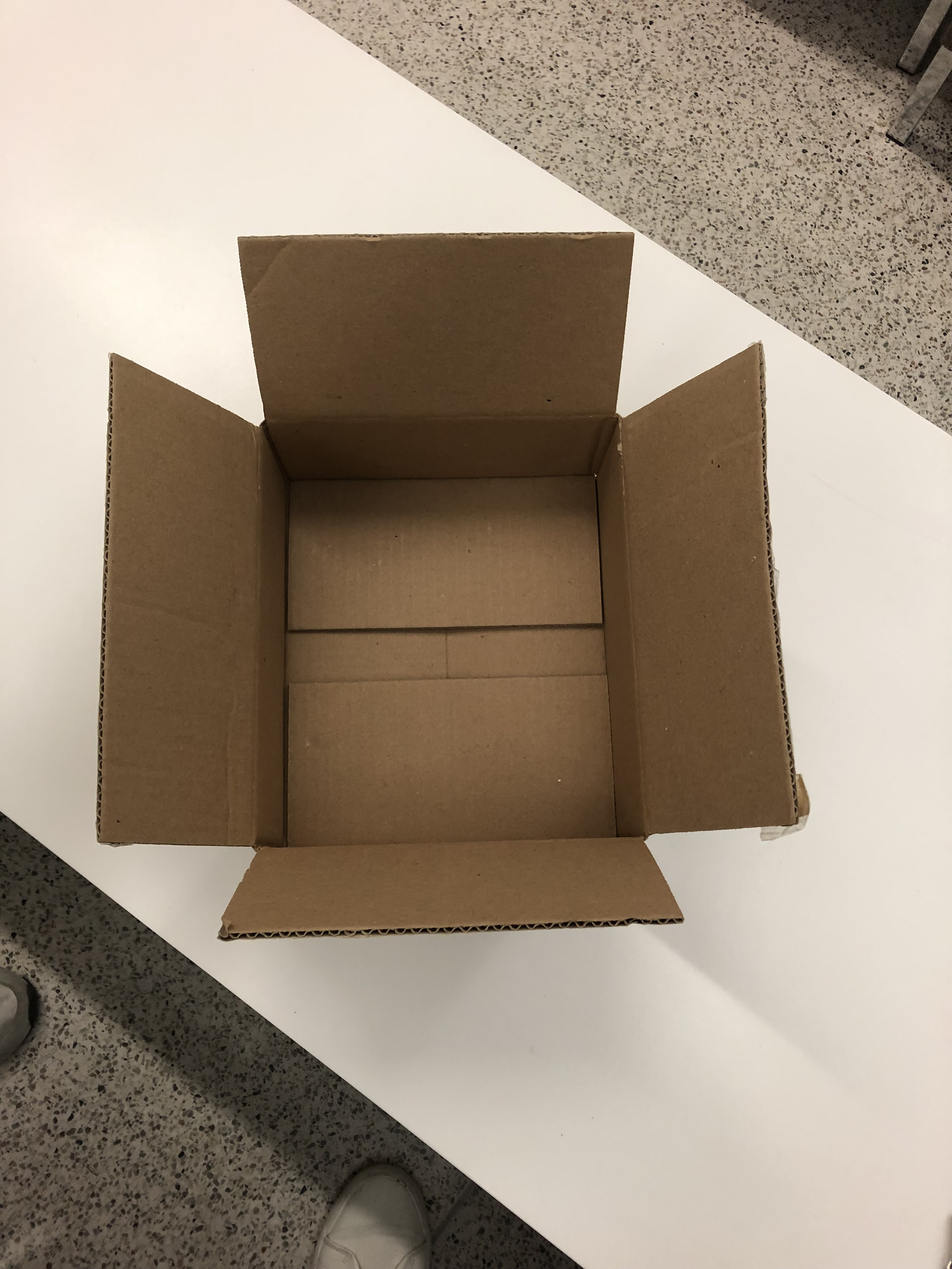box: (103, 232, 805, 937)
crushed: (99, 230, 803, 939)
